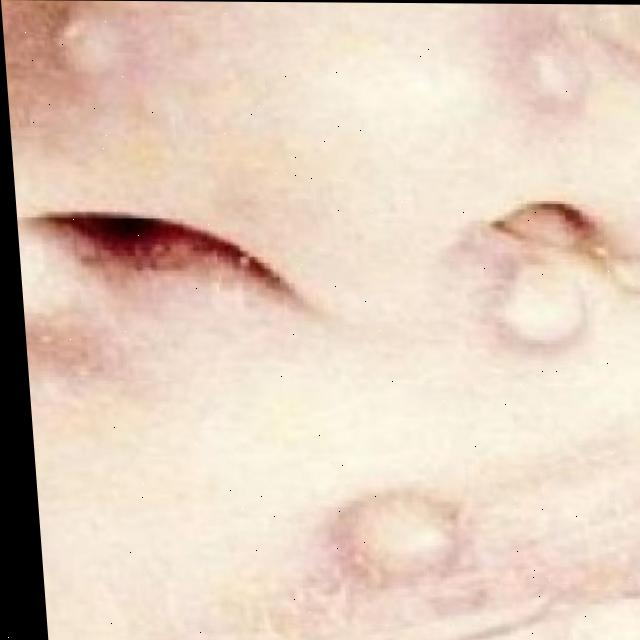Eczema: (485, 183, 602, 348), (318, 475, 453, 574), (69, 1, 136, 78), (530, 53, 568, 107)
